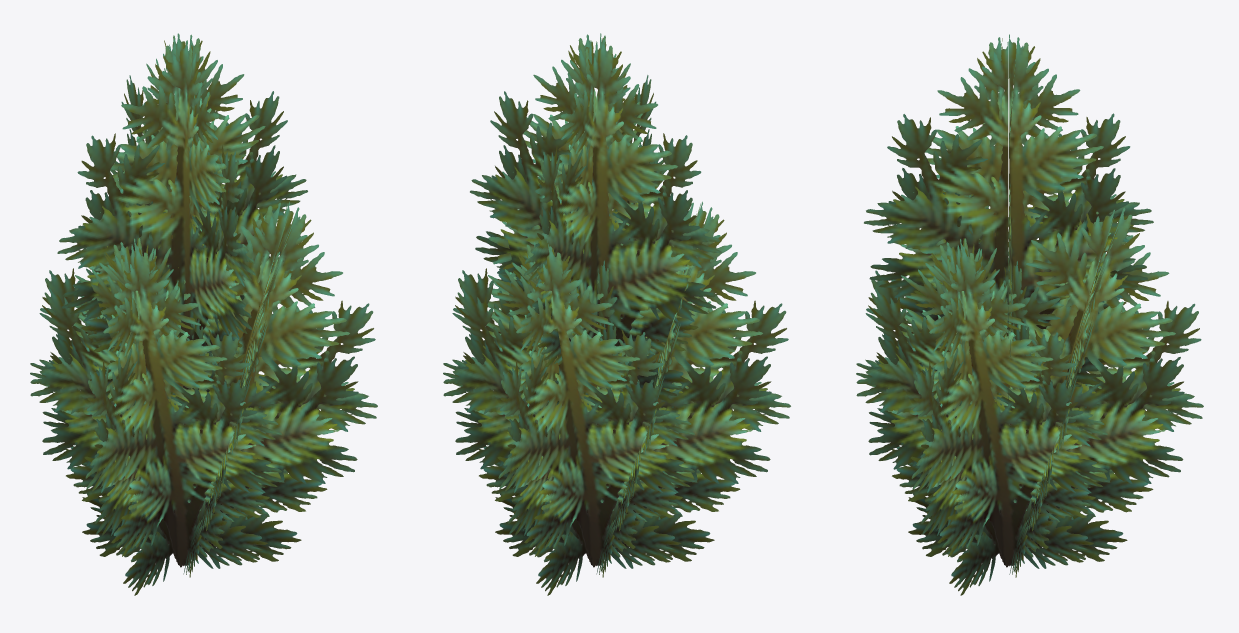
File: painted-pine-big-2.glb
3 views of the same model, side by side, from view 1: azimuth 30°, elevation 25°; view 2: azimuth 150°, elevation 25°; view 3: azimuth 270°, elevation 25° (orthographic).
Size of the model in its own units: 8.72 by 14.43 by 8.96.
Materials: 1 (1 with a texture image).
